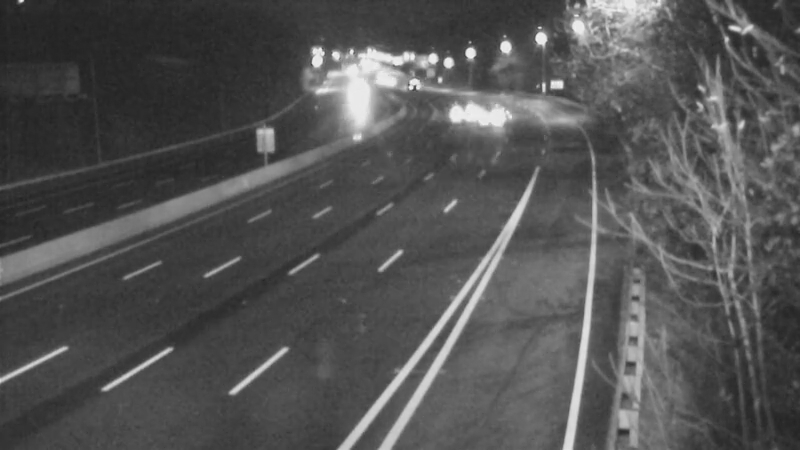vehicle: (378, 60, 428, 110), (429, 89, 479, 139), (464, 88, 514, 138), (329, 74, 379, 124)
